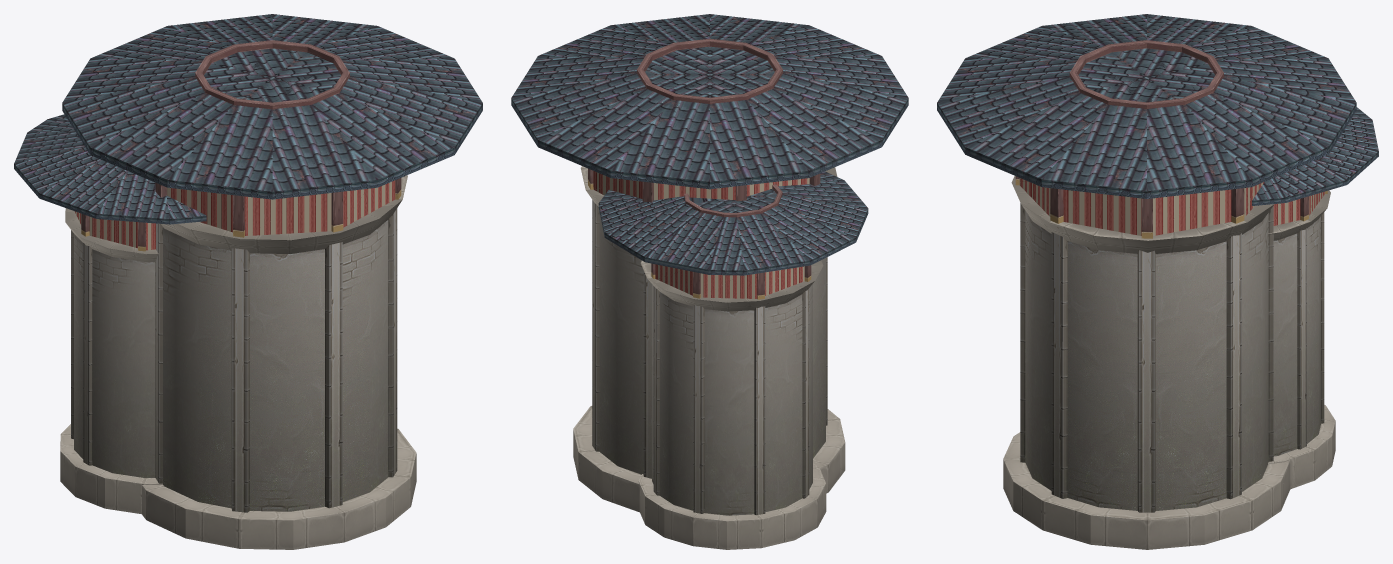
File: mod_zlc_jianzhu051_xy.FBX
The picture shows the model from 3 angles, left to right: view 1: azimuth 30°, elevation 25°; view 2: azimuth 150°, elevation 25°; view 3: azimuth 270°, elevation 25°; orthographic projection. The views are drawn at different scales.
Parts seen in each view (by area): view 1: mod_zlc_jianzhu051_xy; view 2: mod_zlc_jianzhu051_xy; view 3: mod_zlc_jianzhu051_xy.
Boxes of the visible parts, x1,y1,x2,y2 form: mod_zlc_jianzhu051_xy: (14, 14, 482, 549); mod_zlc_jianzhu051_xy: (511, 14, 908, 549); mod_zlc_jianzhu051_xy: (937, 14, 1378, 549).
Size of the model in its own units: 7848 by 8314 by 8006.
Materials: 4 (4 with a texture image).
